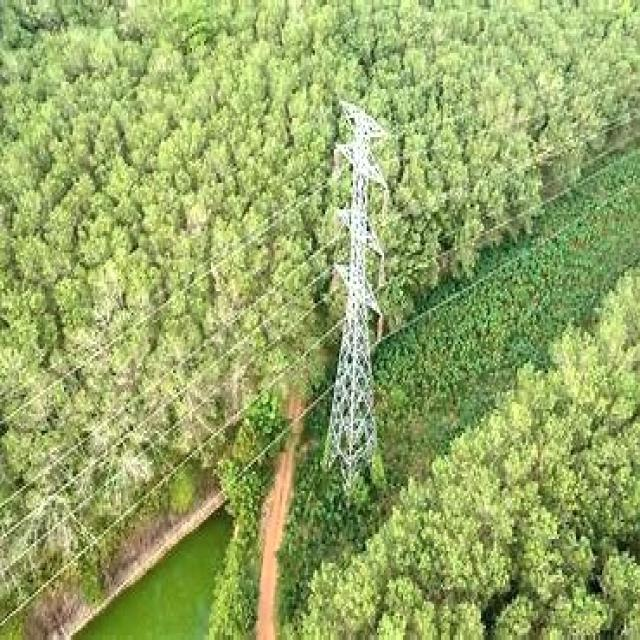utility poles: (325, 75, 396, 519)
